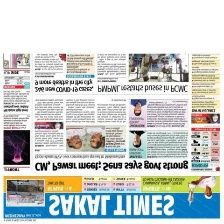news_paper: (1, 52, 222, 220)
